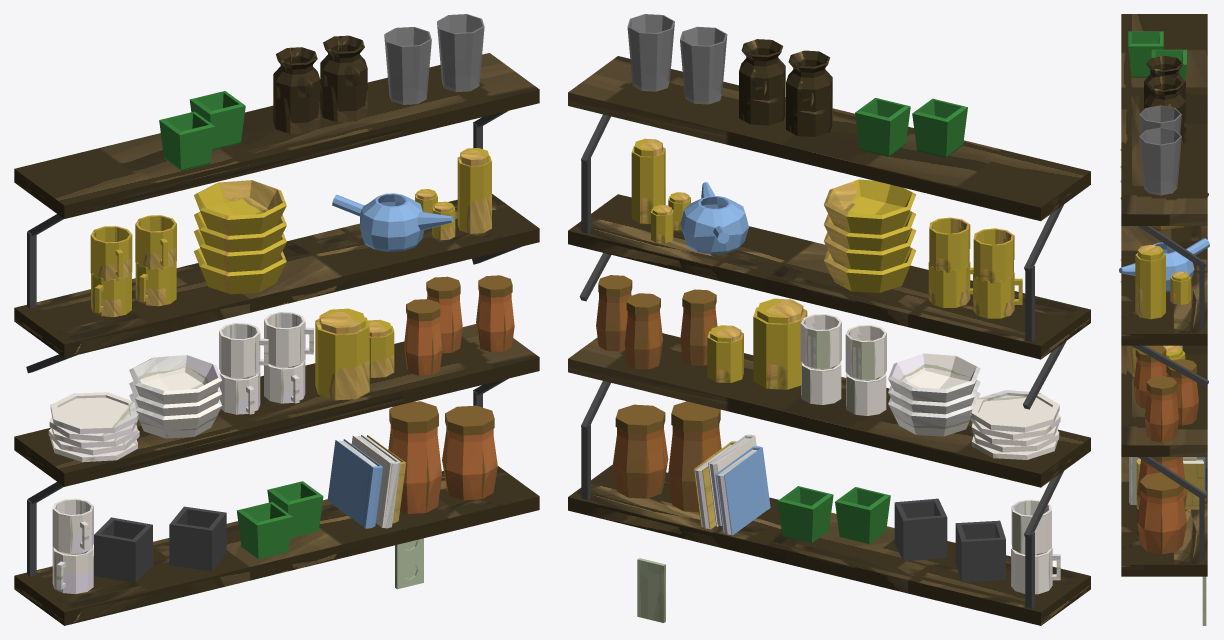
Rendered from kitchenDeko1.glb.
The picture shows the model from 3 angles, left to right: view 1: azimuth 30°, elevation 25°; view 2: azimuth 150°, elevation 25°; view 3: azimuth 270°, elevation 25°; orthographic projection. The views are drawn at different scales.
Visible parts, largest first — view 1: Cylinder.193; view 2: Cylinder.193; view 3: Cylinder.193.
Part boxes in pixels (x1,y1,x2,y2): Cylinder.193: (14,14,539,625); Cylinder.193: (568,14,1090,625); Cylinder.193: (1119,14,1209,625).
Bounding box in the file's own units: 1.51 × 1.76 × 0.2899.
Materials: 10 (6 with a texture image).
